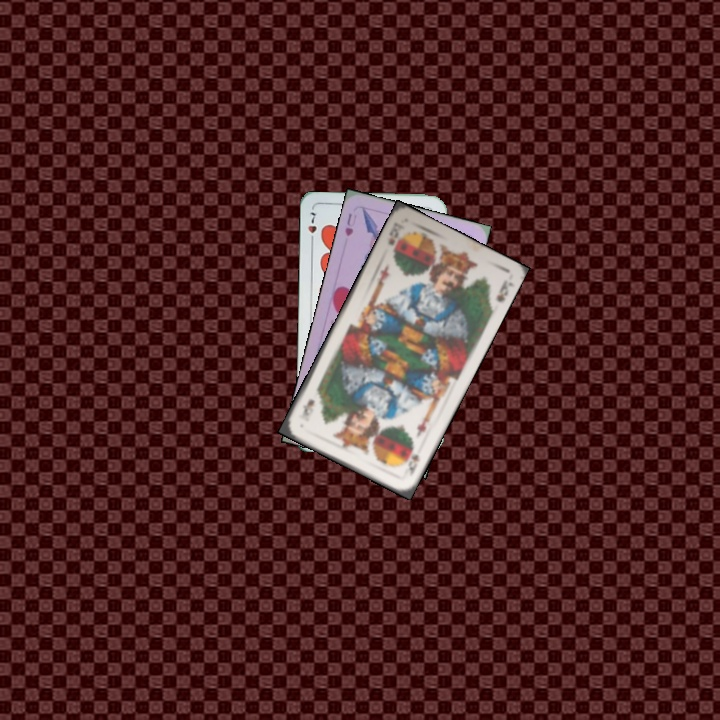H7: (304, 208, 319, 247)
HU: (341, 209, 359, 239)
SK: (401, 441, 422, 478), (384, 219, 407, 248)
